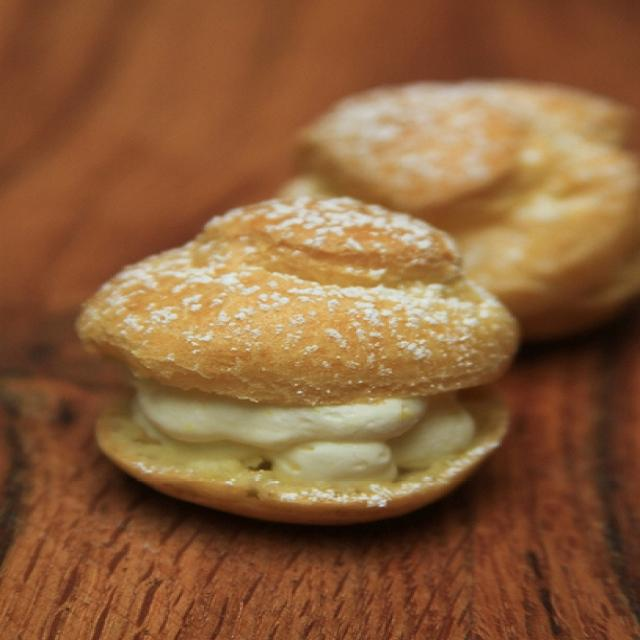炸货点心: (56, 40, 629, 544)
蛋糕甜品: (56, 40, 629, 544)
